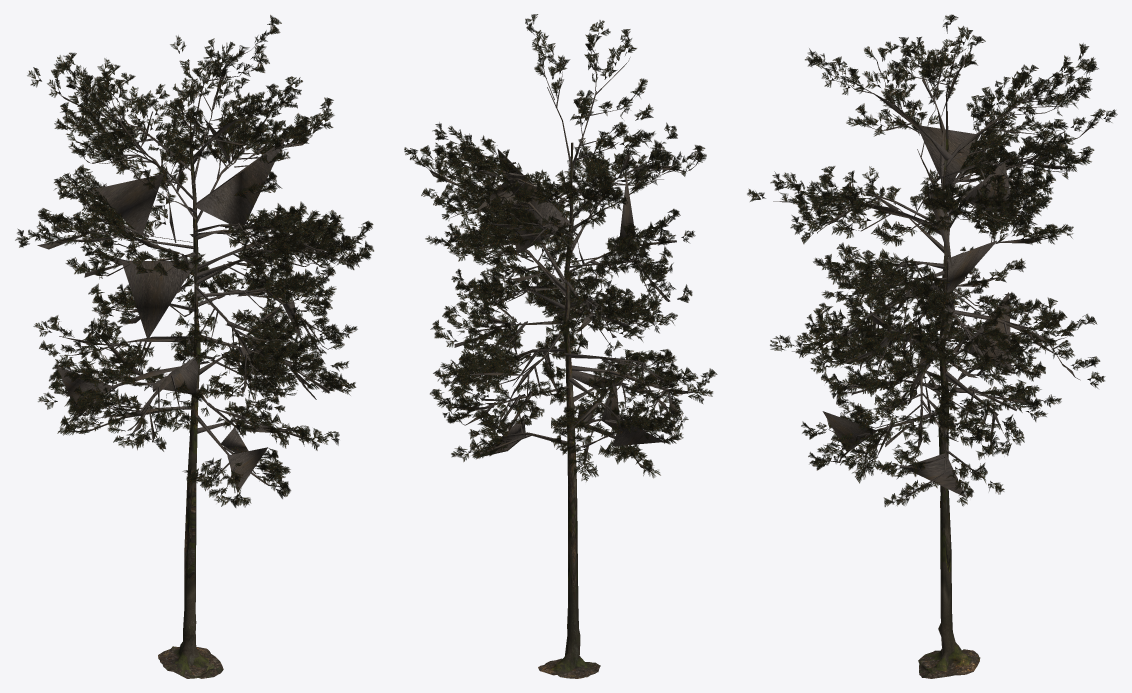
File: pine_tree_01_b_far.glb
3 views of the same model, side by side, from view 1: azimuth 30°, elevation 25°; view 2: azimuth 150°, elevation 25°; view 3: azimuth 270°, elevation 25° (orthographic). The views are drawn at different scales.
Parts seen in each view (by area): view 1: pine_tree_01_b_far; view 2: pine_tree_01_b_far; view 3: pine_tree_01_b_far.
Part boxes in pixels (x1=…): pine_tree_01_b_far: x1=15, y1=15, x2=373, y2=678; pine_tree_01_b_far: x1=404, y1=14, x2=717, y2=678; pine_tree_01_b_far: x1=747, y1=14, x2=1117, y2=678.
Bounding box in the file's own units: 7.22 × 14.87 × 7.55.
Materials: 3 (3 with a texture image).
